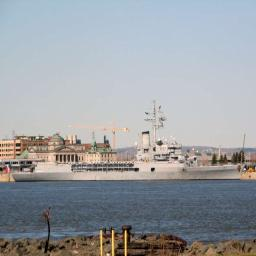Portanaves: (11, 100, 247, 185)
